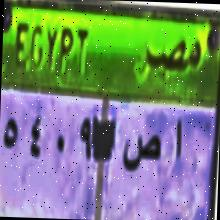0: (52, 123, 70, 163)
4: (25, 110, 49, 174)
5: (0, 113, 22, 165)
9: (76, 107, 95, 174)
alif: (169, 116, 187, 173)
saad: (122, 128, 162, 180)
